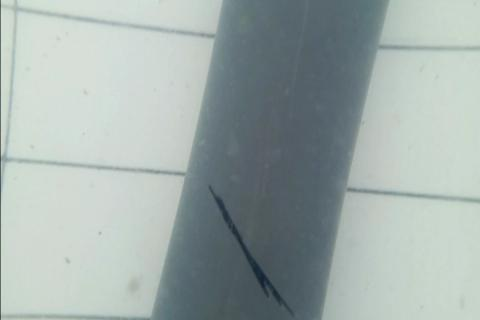keretakan: (208, 183, 299, 318)
